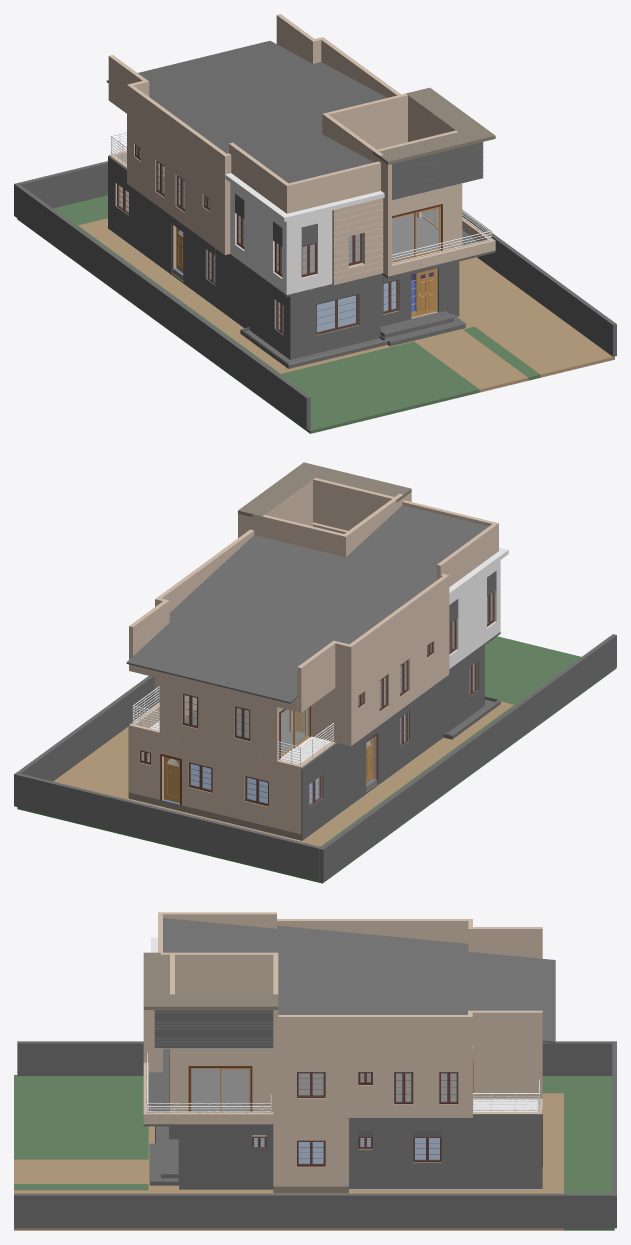
The model's file is Genesis4.glb.
3 views of the same model, one above another, from view 1: azimuth 30°, elevation 25°; view 2: azimuth 150°, elevation 25°; view 3: azimuth 270°, elevation 25° (orthographic). The views are drawn at different scales.
Visible parts, largest first — view 1: Wall Walls <324225 new block 230 mm<, FamilyInstance Casework Casework 1 <325590 Casework 1<, FootPrintRoof Roofs <324746 roof 4<, Floor Floors <51959 walkways 4 site<, Floor Floors <63109 grass floor<, FamilyInstance Windows Dbl w Glazing Bars (2) <319490 800<, FamilyInstance Doors M_Single-Decorative 2 <253878 900 x 210, FamilyInstance Casework Casework 18 <343914 Casework 18<, Floor Floors <325042 FLR-LIVING<, Floor Floors <255474 GF<, Railing Railings <304118 900mm Pipe<, FamilyInstance Casework Casework 4 <367050 Casework 4< (+1 smaller); view 2: Wall Walls <324225 new block 230 mm<, FootPrintRoof Roofs <324746 roof 4<, FamilyInstance Casework Casework 1 <325590 Casework 1<, Floor Floors <51959 walkways 4 site<, Floor Floors <63109 grass floor<, FamilyInstance Windows Dbl w Glazing Bars (2) <319490 800<, Floor Floors <325042 FLR-LIVING<, FamilyInstance Doors M_Single-Decorative 2 <253878 900 x 210, Floor Floors <255474 GF<, FamilyInstance Casework Casework 18 <343914 Casework 18<, Railing Railings <304118 900mm Pipe<, Ceiling Ceilings <330324 Ceiling 2<; view 3: Wall Walls <324225 new block 230 mm<, FootPrintRoof Roofs <324746 roof 4<, FamilyInstance Casework Casework 1 <325590 Casework 1<, Floor Floors <63109 grass floor<, Floor Floors <51959 walkways 4 site<, FamilyInstance Casework Casework 18 <343914 Casework 18<, FamilyInstance Windows Dbl w Glazing Bars (2) <319490 800<, Floor Floors <325042 FLR-LIVING<, FamilyInstance Doors M_Single-Decorative 2 <253878 900 x 210, Floor Floors <255474 GF<, Railing Railings <304118 900mm Pipe<, Ceiling Ceilings <330324 Ceiling 2< (+2 smaller).
Boxes of the visible parts, x1,y1,x2,y2 form: Wall Walls <324225 new block 230 mm<: [14, 14, 616, 429]; FamilyInstance Casework Casework 1 <325590 Casework 1<: [108, 142, 483, 359]; FootPrintRoof Roofs <324746 roof 4<: [106, 40, 387, 183]; Floor Floors <51959 walkways 4 site<: [78, 218, 614, 392]; Floor Floors <63109 grass floor<: [17, 195, 540, 433]; FamilyInstance Windows Dbl w Glazing Bars (2) <319490 800<: [117, 145, 398, 334]; FamilyInstance Doors M_Single-Decorative 2 <253878 900 x 210: [172, 204, 442, 317]; FamilyInstance Casework Casework 18 <343914 Casework 18<: [159, 177, 495, 296]; Floor Floors <325042 FLR-LIVING<: [372, 87, 495, 164]; Floor Floors <255474 GF<: [172, 230, 415, 331]; Railing Railings <304118 900mm Pipe<: [110, 132, 491, 263]; FamilyInstance Casework Casework 4 <367050 Casework 4<: [240, 327, 387, 368]; Wall Walls <324225 new block 230 mm<: [14, 478, 616, 881]; FootPrintRoof Roofs <324746 roof 4<: [126, 505, 488, 703]; FamilyInstance Casework Casework 1 <325590 Casework 1<: [128, 547, 508, 840]; Floor Floors <51959 walkways 4 site<: [53, 701, 513, 846]; Floor Floors <63109 grass floor<: [17, 636, 616, 883]; FamilyInstance Windows Dbl w Glazing Bars (2) <319490 800<: [139, 591, 494, 806]; Floor Floors <325042 FLR-LIVING<: [238, 462, 411, 516]; FamilyInstance Doors M_Single-Decorative 2 <253878 900 x 210: [160, 706, 377, 805]; Floor Floors <255474 GF<: [129, 715, 404, 840]; FamilyInstance Casework Casework 18 <343914 Casework 18<: [184, 623, 500, 754]; Railing Railings <304118 900mm Pipe<: [132, 686, 333, 766]; Ceiling Ceilings <330324 Ceiling 2<: [150, 721, 329, 764]; Wall Walls <324225 new block 230 mm<: [14, 912, 616, 1228]; FootPrintRoof Roofs <324746 roof 4<: [163, 918, 555, 1043]; FamilyInstance Casework Casework 1 <325590 Casework 1<: [151, 937, 542, 1189]; Floor Floors <63109 grass floor<: [14, 1075, 614, 1230]; Floor Floors <51959 walkways 4 site<: [14, 1093, 563, 1230]; FamilyInstance Casework Casework 18 <343914 Casework 18<: [143, 1049, 456, 1125]; FamilyInstance Windows Dbl w Glazing Bars (2) <319490 800<: [252, 1072, 458, 1166]; Floor Floors <325042 FLR-LIVING<: [143, 952, 278, 1009]; FamilyInstance Doors M_Single-Decorative 2 <253878 900 x 210: [169, 1049, 542, 1166]; Floor Floors <255474 GF<: [254, 1138, 439, 1193]; Railing Railings <304118 900mm Pipe<: [146, 1053, 539, 1112]; Ceiling Ceilings <330324 Ceiling 2<: [155, 1048, 537, 1111].
Bounding box in the file's own units: 15.2 × 9.17 × 25.1.
